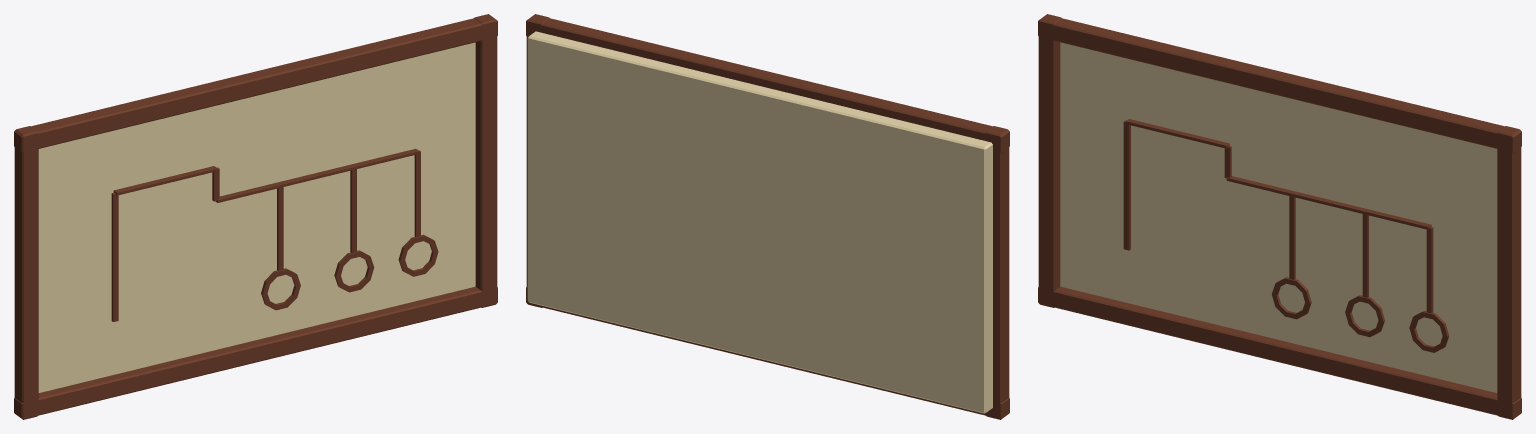
Rendered from schematic.glb.
3 renders of one model, left to right at view 1: azimuth 30°, elevation 25°; view 2: azimuth 150°, elevation 25°; view 3: azimuth 330°, elevation 25°, orthographic.
Parts seen in each view (by area): view 1: Board, Edge_001, Edge, Side, Side_001, Printed_pipe_003, Printed_pipe, Symbol_001, Symbol, Symbol_002, Printed_pipe_001, Branch_002 (+2 smaller); view 2: Board, Edge_001, Side, Edge, Side_001; view 3: Board, Edge_001, Edge, Side_001, Side, Printed_pipe_003, Printed_pipe, Symbol_001, Symbol, Symbol_002, Printed_pipe_001, Branch_002 (+2 smaller).
Boxes of the visible parts, x1,y1,x2,y2 form: Board: (38,42,475,392); Edge_001: (14,18,497,152); Edge: (14,286,497,419); Side: (14,126,38,419); Side_001: (474,14,497,307); Printed_pipe_003: (216,148,419,202); Printed_pipe: (111,192,118,321); Symbol_001: (334,250,374,292); Symbol: (261,268,300,310); Symbol_002: (398,234,438,276); Printed_pipe_001: (113,166,217,195); Branch_002: (414,150,420,237); Board: (527,31,992,413); Edge_001: (526,18,1009,152); Side: (985,126,1009,419); Edge: (526,287,1009,418); Side_001: (526,14,549,307); Board: (1060,42,1497,392); Edge_001: (1038,18,1521,152); Edge: (1038,286,1521,418); Side_001: (1497,126,1521,419); Side: (1038,14,1061,307); Printed_pipe_003: (1226,176,1431,229); Printed_pipe: (1123,120,1130,250); Symbol_001: (1345,295,1384,337); Symbol: (1271,277,1311,319); Symbol_002: (1409,311,1449,352); Printed_pipe_001: (1126,119,1229,148); Branch_002: (1426,227,1433,313).
Size of the model in its own units: 1.87 by 1.07 by 0.131.
